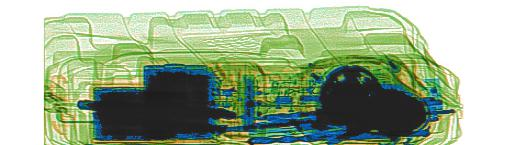battery: (87, 62, 220, 140)
